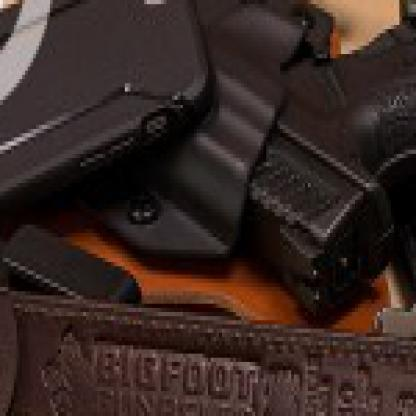gun: (66, 0, 414, 325)
